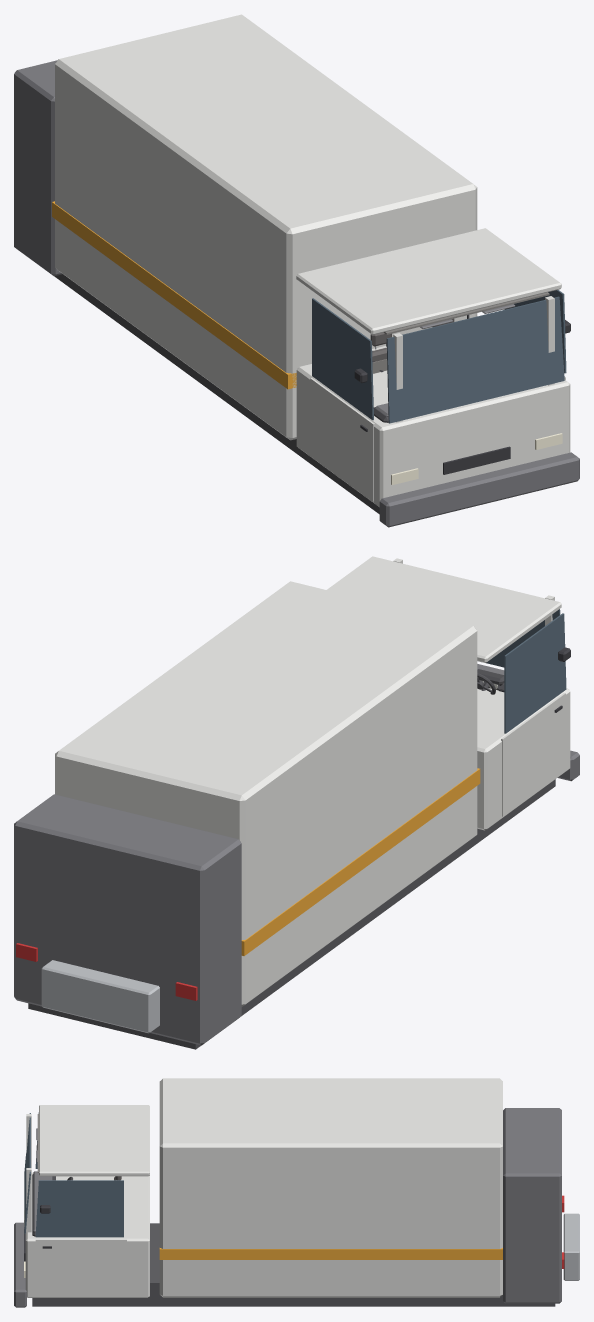
File: trash_truck.glb
3 views of the same model, one above another, from view 1: azimuth 30°, elevation 25°; view 2: azimuth 150°, elevation 25°; view 3: azimuth 270°, elevation 25° (orthographic). The views are drawn at different scales.
Visible parts, largest first — view 1: compactor, roof, cab_shell, win_front, hopper, bumper_f, door_fl, win_fl, band, body, grille, interior_headliner; view 2: compactor, hopper, roof, bin_lifter, door_fl, win_fl, cab_shell, band, body; view 3: compactor, hopper, roof, body, door_fr, win_fr, cab_shell, band, bin_lifter, bumper_f, win_front, interior_dash_top (+1 smaller).
Boxes of the visible parts, x1,y1,x2,y2 form: compactor: (55, 14, 477, 440); roof: (296, 228, 561, 334); cab_shell: (296, 346, 570, 506); win_front: (386, 296, 564, 423); hopper: (14, 60, 62, 276); bumper_f: (379, 452, 579, 527); door_fl: (310, 378, 374, 501); win_fl: (312, 298, 373, 420); band: (52, 201, 296, 389); body: (54, 274, 379, 514); grille: (443, 446, 510, 474); interior_headliner: (383, 292, 549, 334); compactor: (55, 581, 477, 1006); hopper: (14, 794, 241, 1045); roof: (327, 556, 561, 662); bin_lifter: (41, 960, 159, 1033); door_fl: (501, 693, 565, 816); win_fl: (504, 613, 566, 733); cab_shell: (477, 688, 570, 830); band: (241, 768, 480, 955); body: (28, 779, 555, 1049); compactor: (159, 1078, 502, 1297); hopper: (503, 1108, 561, 1303); roof: (39, 1105, 149, 1176); body: (32, 1223, 555, 1306); door_fr: (35, 1239, 126, 1296); win_fr: (35, 1180, 123, 1237); cab_shell: (25, 1172, 149, 1297); band: (159, 1248, 502, 1259); bin_lifter: (563, 1213, 579, 1280); bumper_f: (14, 1222, 26, 1307); win_front: (24, 1113, 30, 1233); interior_dash_top: (33, 1171, 52, 1231).
Bounding box in the file's own units: 2.71 × 2.8 × 8.65.
